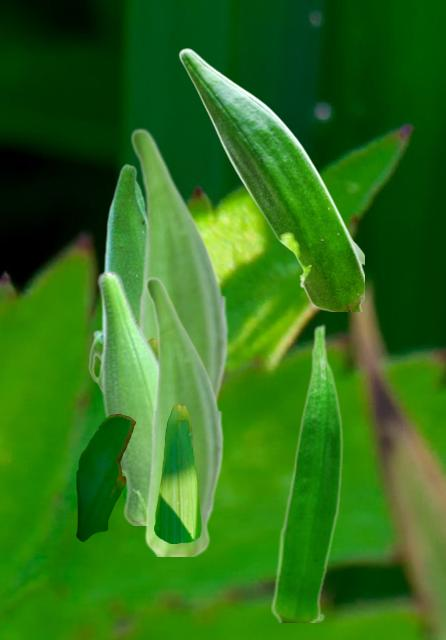okra: (178, 48, 363, 310), (129, 127, 228, 403), (144, 276, 223, 555), (271, 323, 343, 621), (96, 270, 156, 524), (88, 163, 144, 389)
